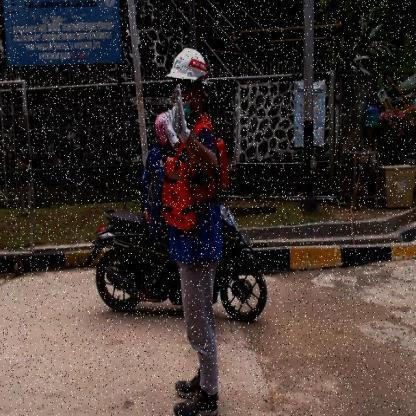boots: (173, 388, 220, 416), (176, 370, 202, 398)
gloves: (168, 84, 192, 144), (164, 103, 179, 148)
goggles: (172, 83, 196, 94)
helmet: (167, 41, 215, 86)
mask: (182, 100, 194, 119)
vest: (161, 134, 229, 230)
